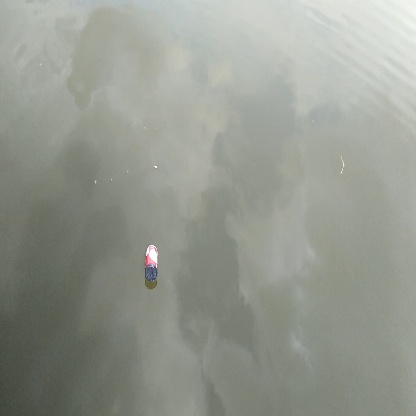milk-box: (141, 241, 164, 283)
